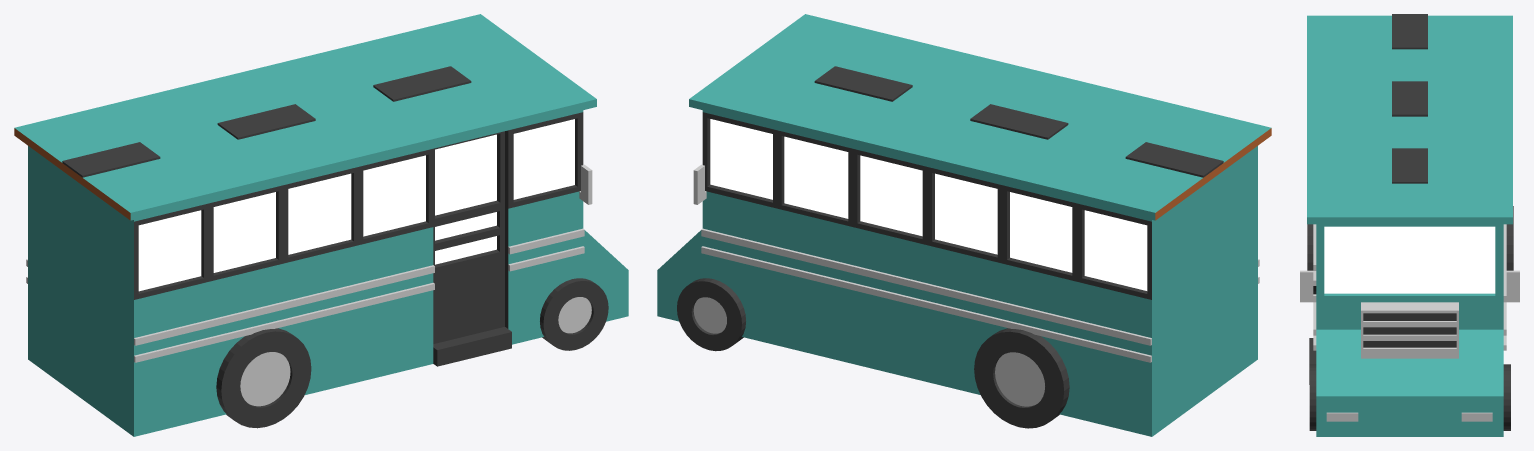
File: Car 1.2.fbx
3 views of the same model, side by side, from view 1: azimuth 30°, elevation 25°; view 2: azimuth 150°, elevation 25°; view 3: azimuth 270°, elevation 25° (orthographic). The views are drawn at different scales.
Parts seen in each view (by area): view 1: Car_2.002; view 2: Car_2.002; view 3: Car_2.002.
Part boxes in pixels (x1,y1,x2,y2): Car_2.002: (14, 14, 628, 436); Car_2.002: (657, 14, 1271, 436); Car_2.002: (1300, 14, 1519, 436).
Bounding box in the file's own units: 768 × 362 × 327.
